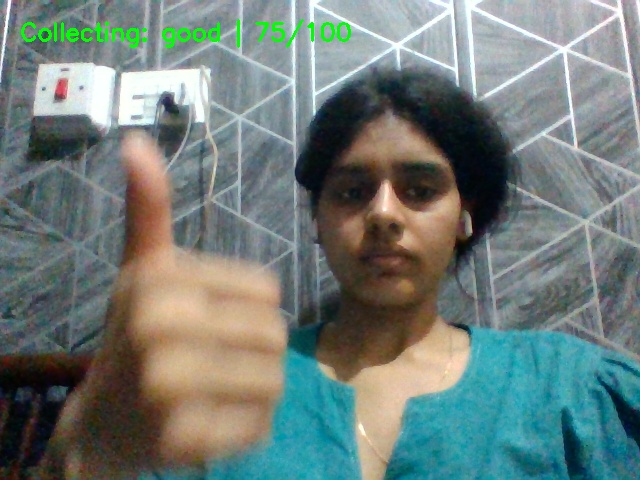good: (92, 118, 304, 468)
